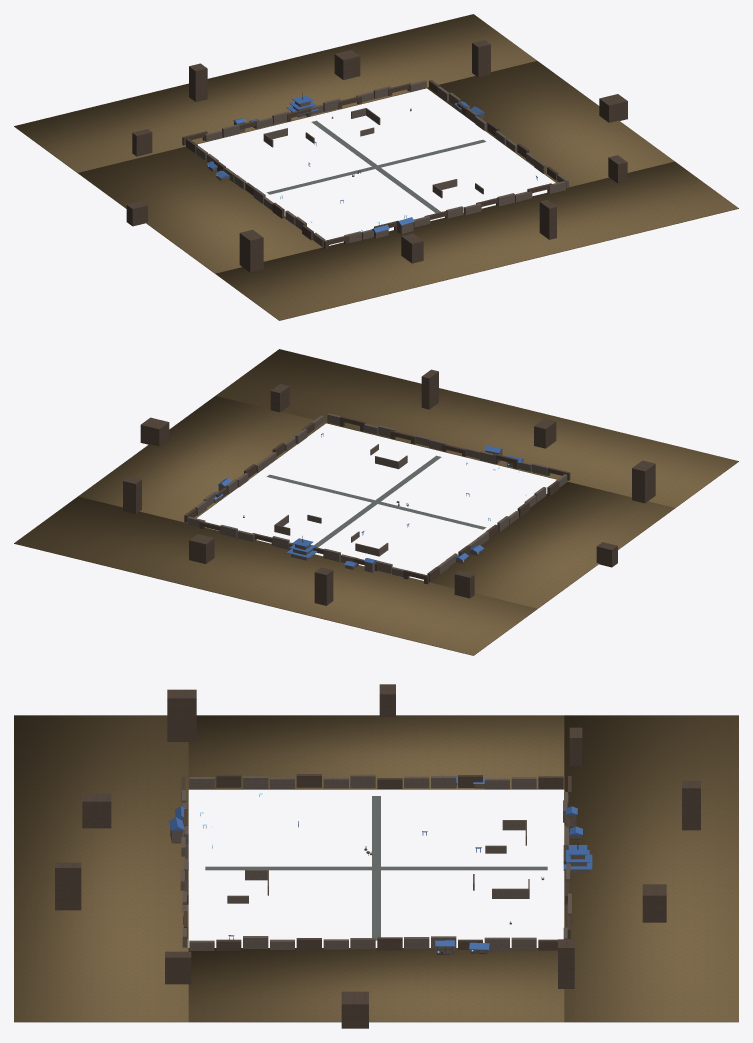
Rendered from onsengai-lod2.glb.
3 views of the same model, one above another, from view 1: azimuth 30°, elevation 25°; view 2: azimuth 150°, elevation 25°; view 3: azimuth 270°, elevation 25° (orthographic). The views are drawn at different scales.
Visible parts, largest first — view 1: HB_onsengai_LOD2_terrain, HB_onsengai_LOD2_wall_alt, HB_onsengai_LOD2_wall, HB_onsengai_LOD2_road, HB_onsengai_LOD2_accent; view 2: HB_onsengai_LOD2_terrain, HB_onsengai_LOD2_wall_alt, HB_onsengai_LOD2_wall, HB_onsengai_LOD2_road, HB_onsengai_LOD2_accent; view 3: HB_onsengai_LOD2_terrain, HB_onsengai_LOD2_wall_alt, HB_onsengai_LOD2_wall, HB_onsengai_LOD2_road, HB_onsengai_LOD2_accent.
Boxes of the visible parts, x1,y1,x2,y2 form: HB_onsengai_LOD2_terrain: [14, 14, 738, 320]; HB_onsengai_LOD2_wall_alt: [126, 40, 627, 272]; HB_onsengai_LOD2_wall: [196, 80, 568, 246]; HB_onsengai_LOD2_road: [266, 120, 485, 213]; HB_onsengai_LOD2_accent: [207, 95, 537, 232]; HB_onsengai_LOD2_terrain: [14, 349, 738, 655]; HB_onsengai_LOD2_wall_alt: [123, 369, 655, 605]; HB_onsengai_LOD2_wall: [187, 413, 567, 577]; HB_onsengai_LOD2_road: [267, 455, 486, 547]; HB_onsengai_LOD2_accent: [213, 433, 524, 566]; HB_onsengai_LOD2_terrain: [14, 715, 738, 1022]; HB_onsengai_LOD2_wall_alt: [55, 684, 700, 1028]; HB_onsengai_LOD2_wall: [170, 774, 588, 954]; HB_onsengai_LOD2_road: [205, 796, 547, 940]; HB_onsengai_LOD2_accent: [169, 775, 592, 951].
Bounding box in the file's own units: 566 × 36.89 × 540.
Materials: 9 (7 with a texture image).
